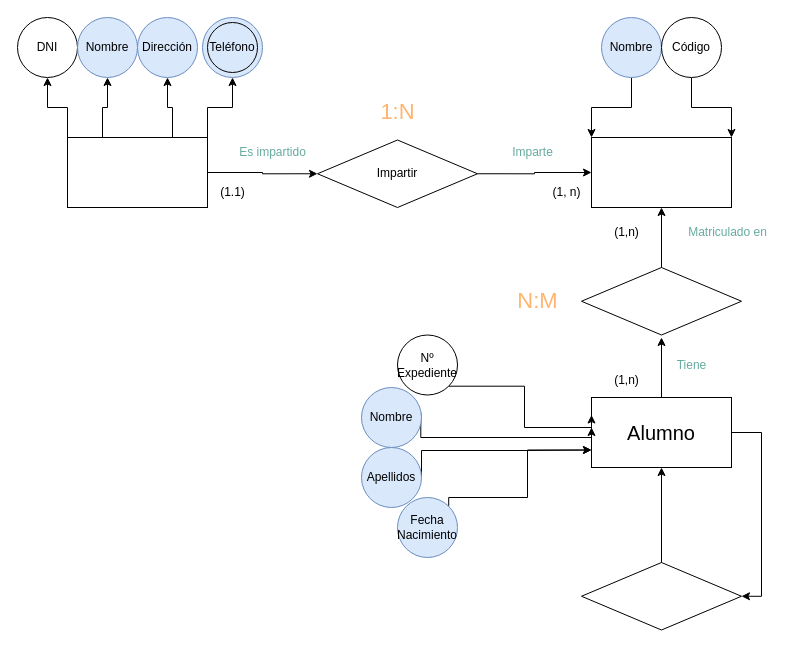
The diagram is 795 pixels wide and 648 high, and some of its shapes have lost their labels. The shapes that lost their labels are listed below. From the top down, each one's box as (x1, y1, x2, y2) in pixels, then its label:
(66, 136, 208, 208): Profesorado
(590, 136, 732, 208): Módulos
(580, 266, 742, 335): Matricular
(580, 562, 742, 630): Es delegado
